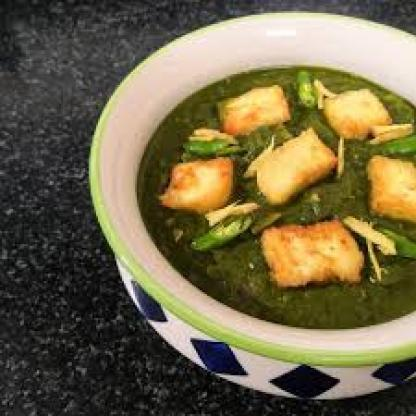palak_paneer: (135, 66, 416, 329)
